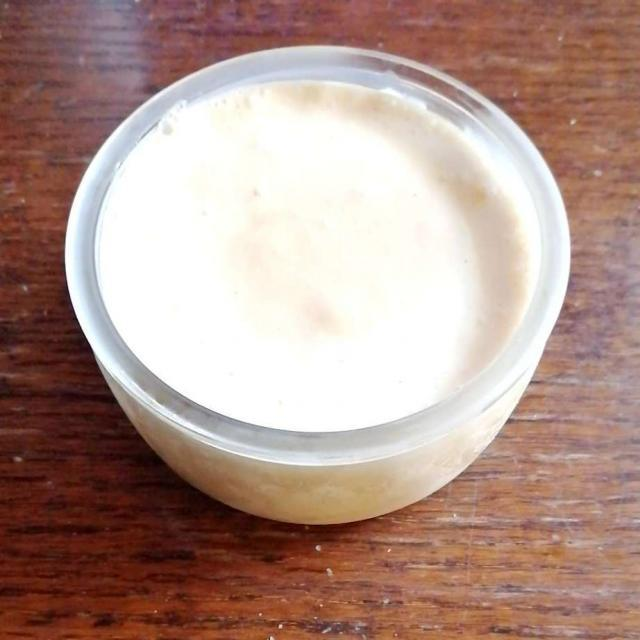ice-cream: (99, 83, 527, 437)
